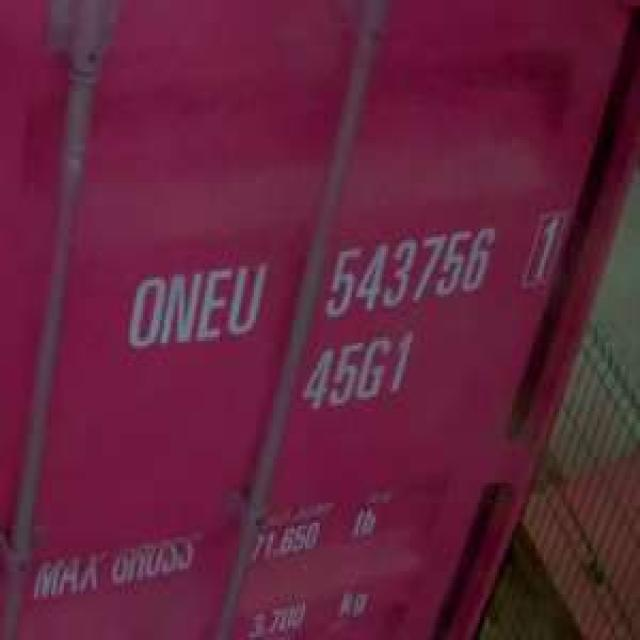dv: (525, 200, 565, 289)
owner: (117, 252, 271, 354)
serial: (318, 220, 499, 320)
size: (297, 329, 420, 414)
